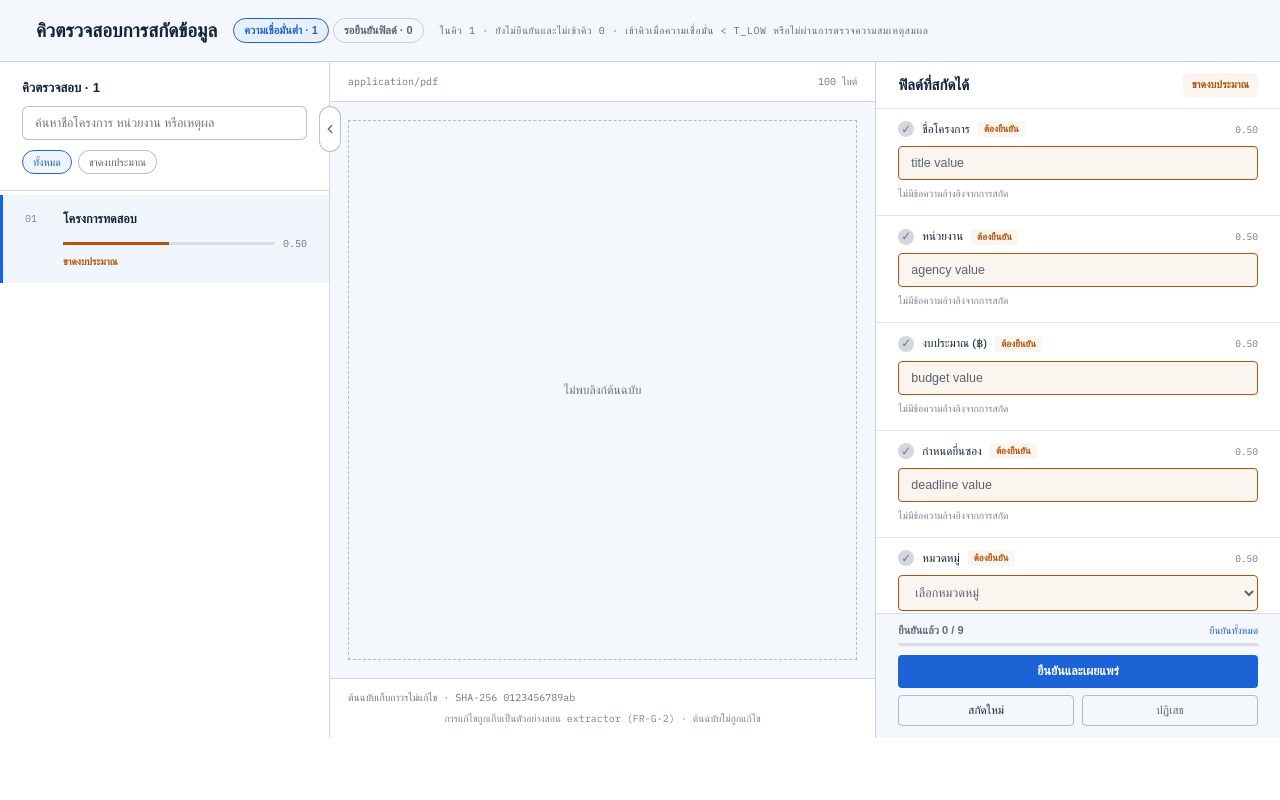
Test: AdminReviewView confirmations › prompts before approval when fields remain unconfirmed
This screenshot has width=1280, height=800.
Click the button "ยืนยันและเผยแพร่".
click(1078, 672)  # box top-left (898, 655), bottom-right (1258, 688)
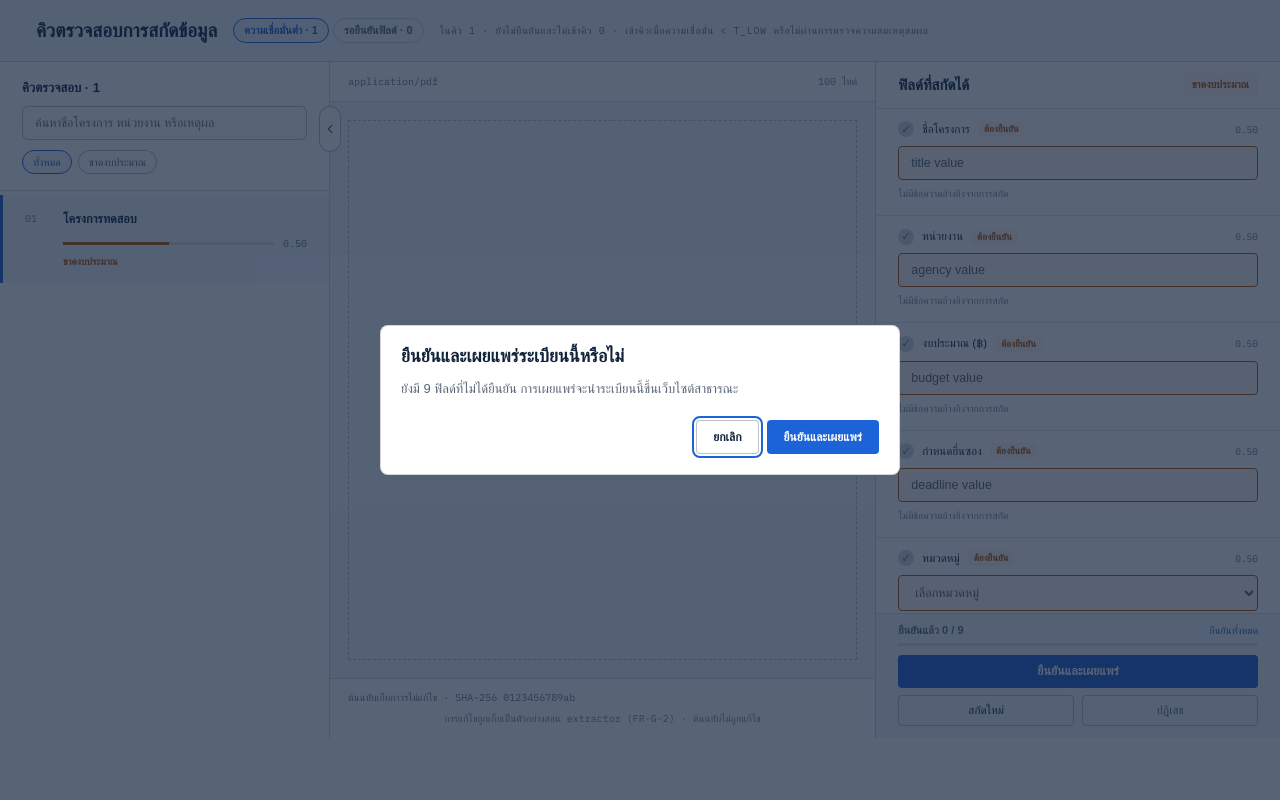
Now the dialog shows "ยังมี 9 ฟิลด์ที่ไม่ได้ยืนยัน", box top-left (401, 381), bottom-right (738, 396)
